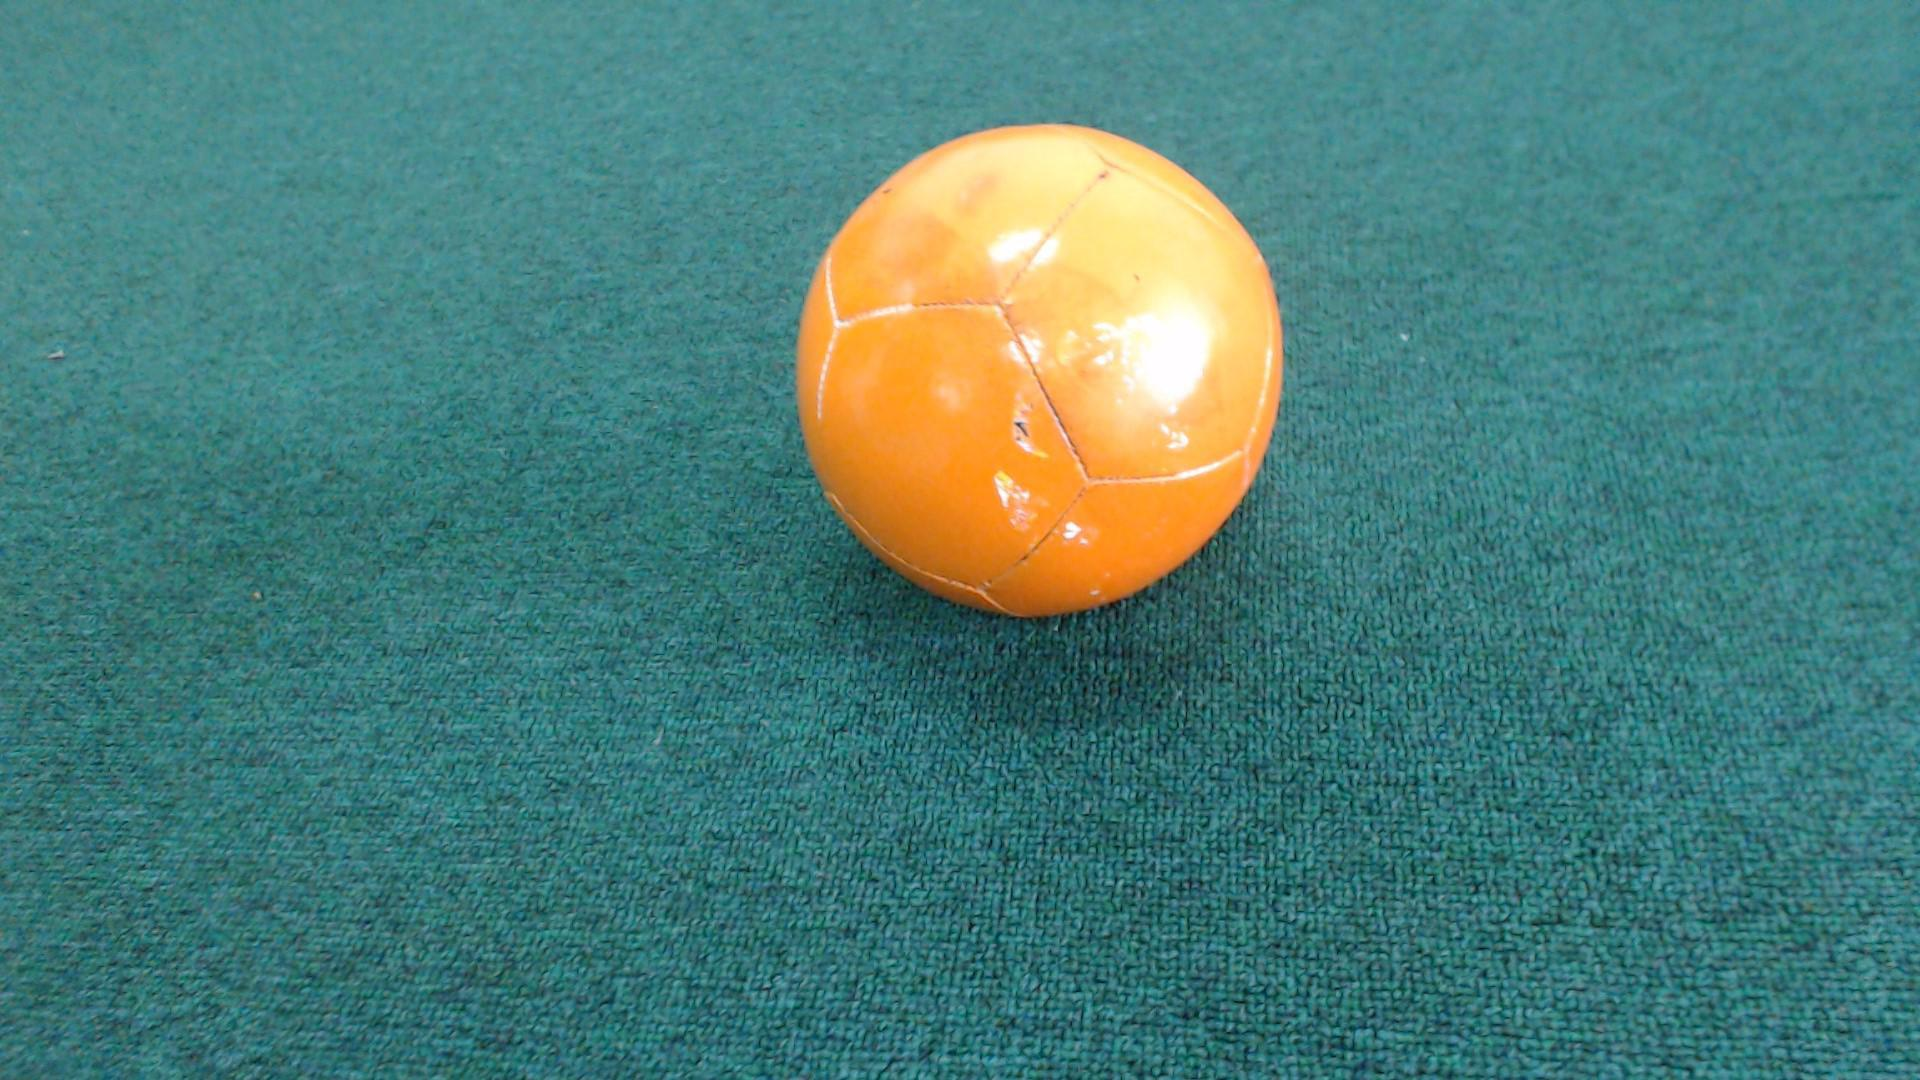bola: (753, 88, 1313, 636)
